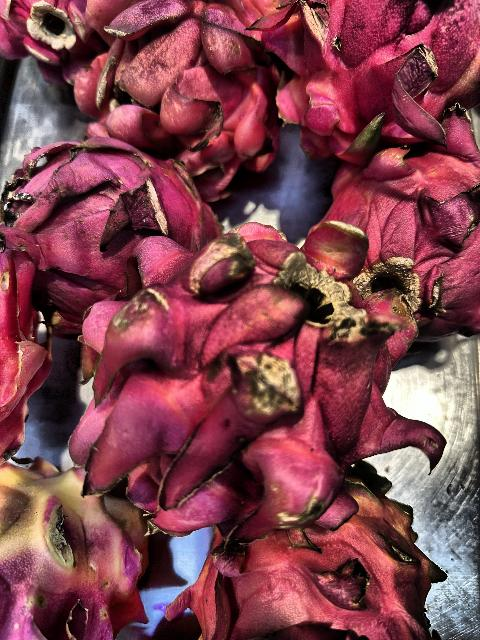buah-naga-belum-matang: (184, 458, 440, 640), (0, 442, 166, 640)
buah-naga-matang: (68, 186, 436, 520), (0, 130, 234, 296), (94, 0, 284, 182), (322, 131, 480, 329), (262, 0, 480, 136)
